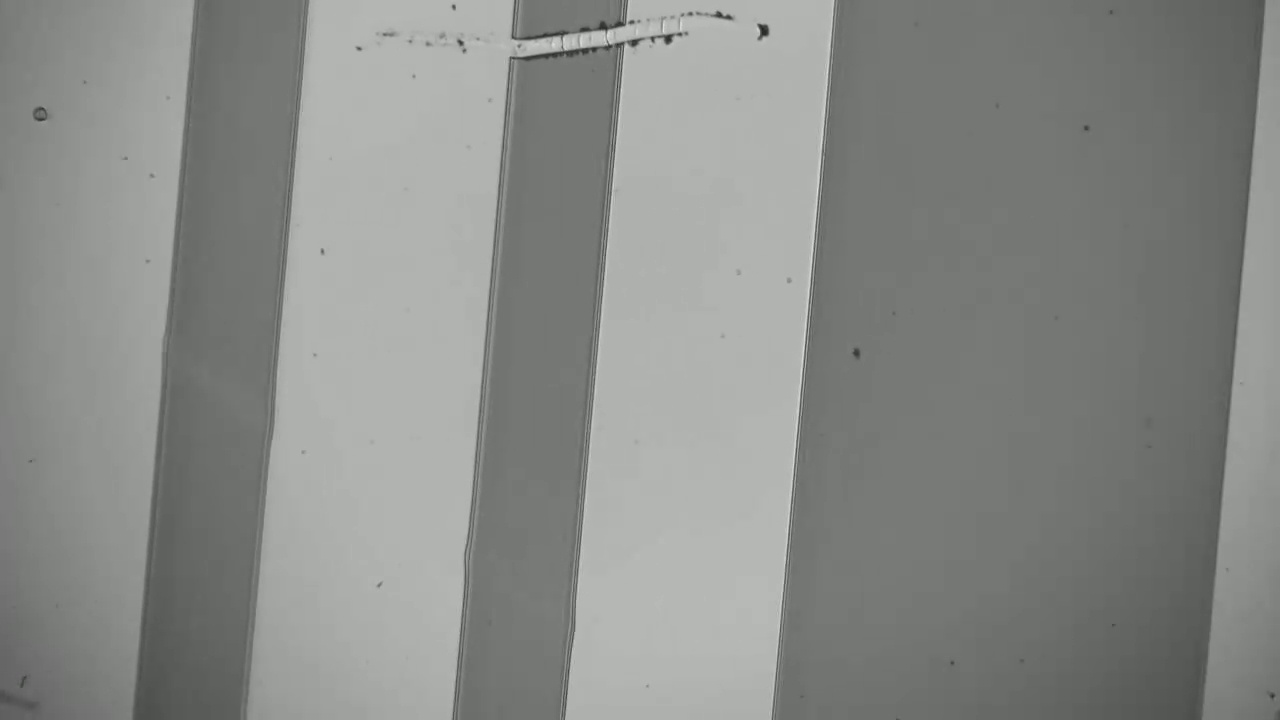Short_circuit: (490, 4, 651, 86)
